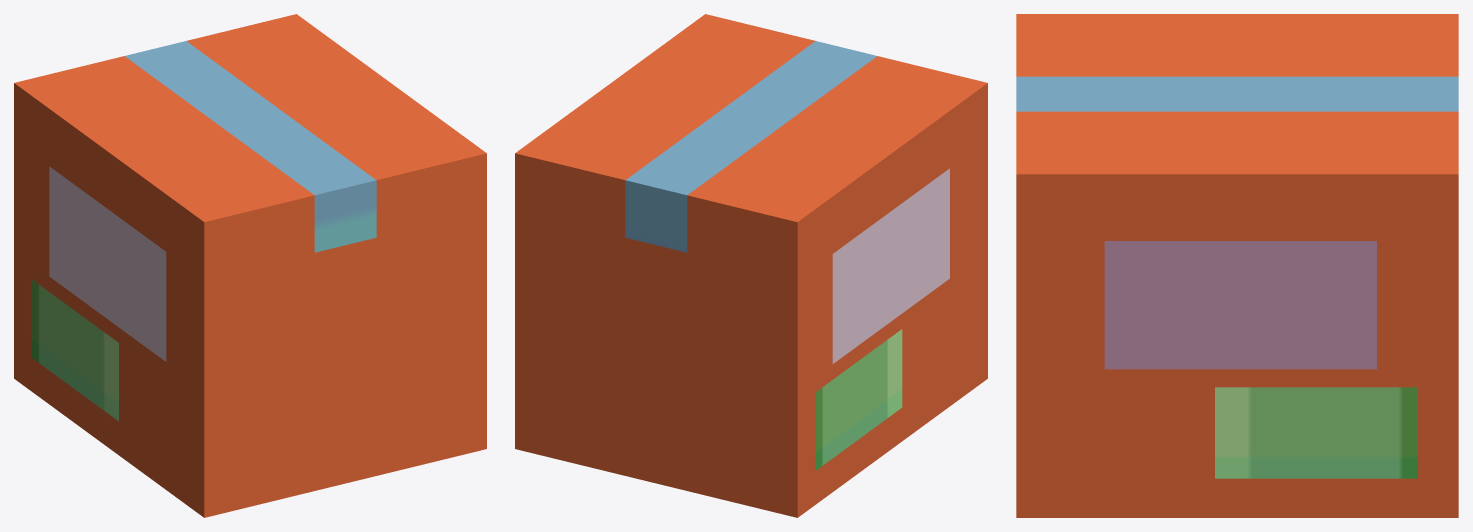
File: Green_Return_Box.fbx
3 views of the same model, side by side, from view 1: azimuth 30°, elevation 25°; view 2: azimuth 150°, elevation 25°; view 3: azimuth 270°, elevation 25° (orthographic). The views are drawn at different scales.
Parts seen in each view (by area): view 1: Green_Return_Box; view 2: Green_Return_Box; view 3: Green_Return_Box.
Part boxes in pixels (x1=…): Green_Return_Box: x1=14, y1=14, x2=486, y2=517; Green_Return_Box: x1=515, y1=14, x2=987, y2=517; Green_Return_Box: x1=1016, y1=14, x2=1458, y2=517.
Bounding box in the file's own units: 30 × 30 × 35.
